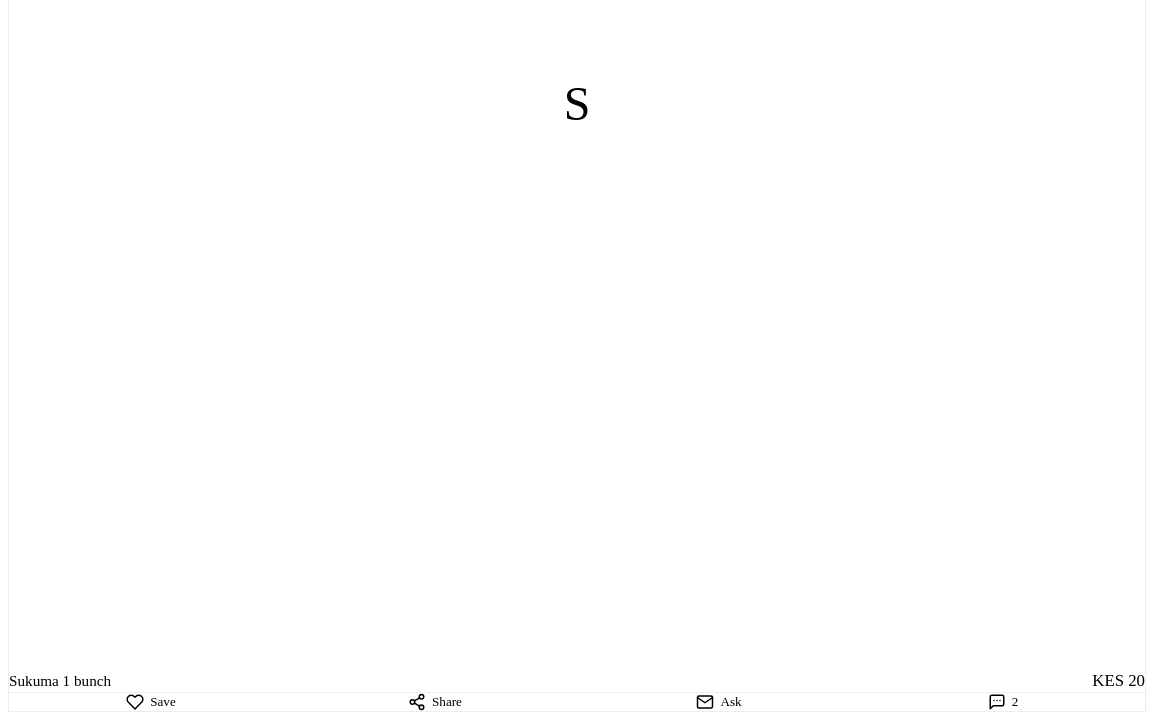
Test case: ProductCard — engagement bar › shows the commenter name (and a neutral fallback for older nameless comments) — never the raw id
The width and height of the screenshot is (1152, 720).
(page scrolled)
Click the button with test id "comments-btn" at (1003, 702), box [861,692,1145,710]
(page scrolled)
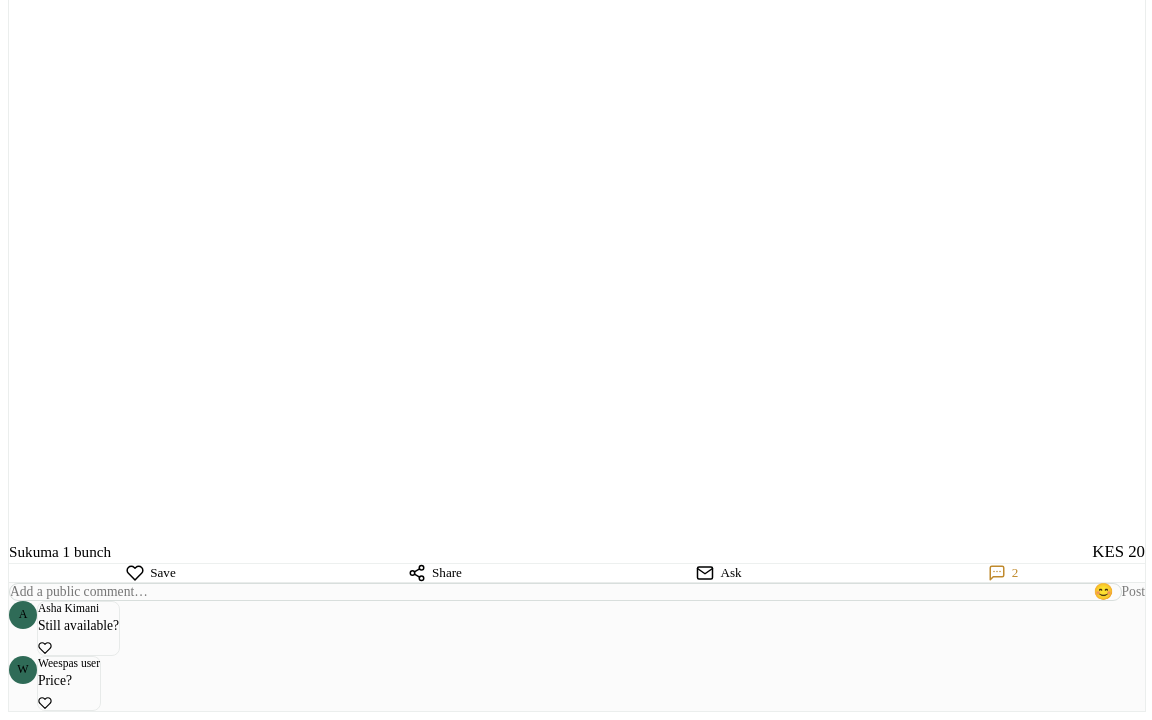
Expected: the text "Asha Kimani" is shown, [38,602,99,614]
Expected: the text "Weespas user" is shown, [38,656,100,668]
